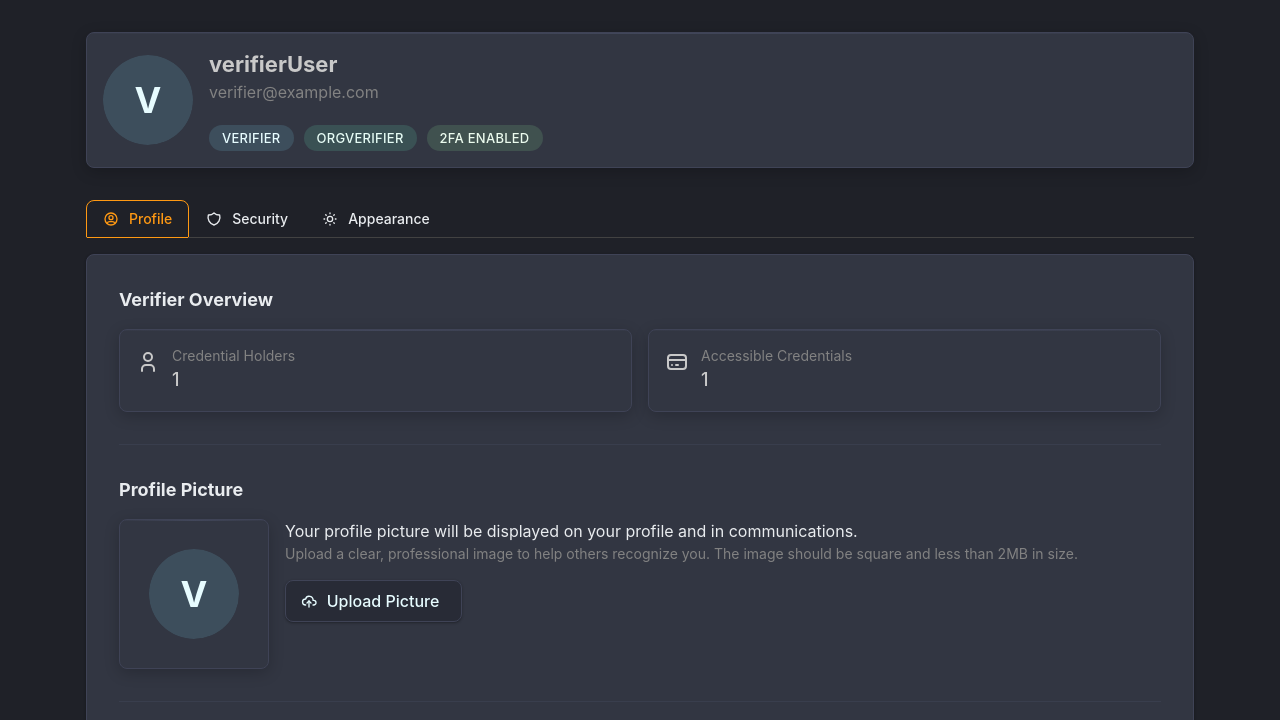
Test: Settings Page › shows enabled 2FA interface for users with 2FA enabled
The width and height of the screenshot is (1280, 720).
Click the tab "Security" at [247, 219], box [189,200,305,238]
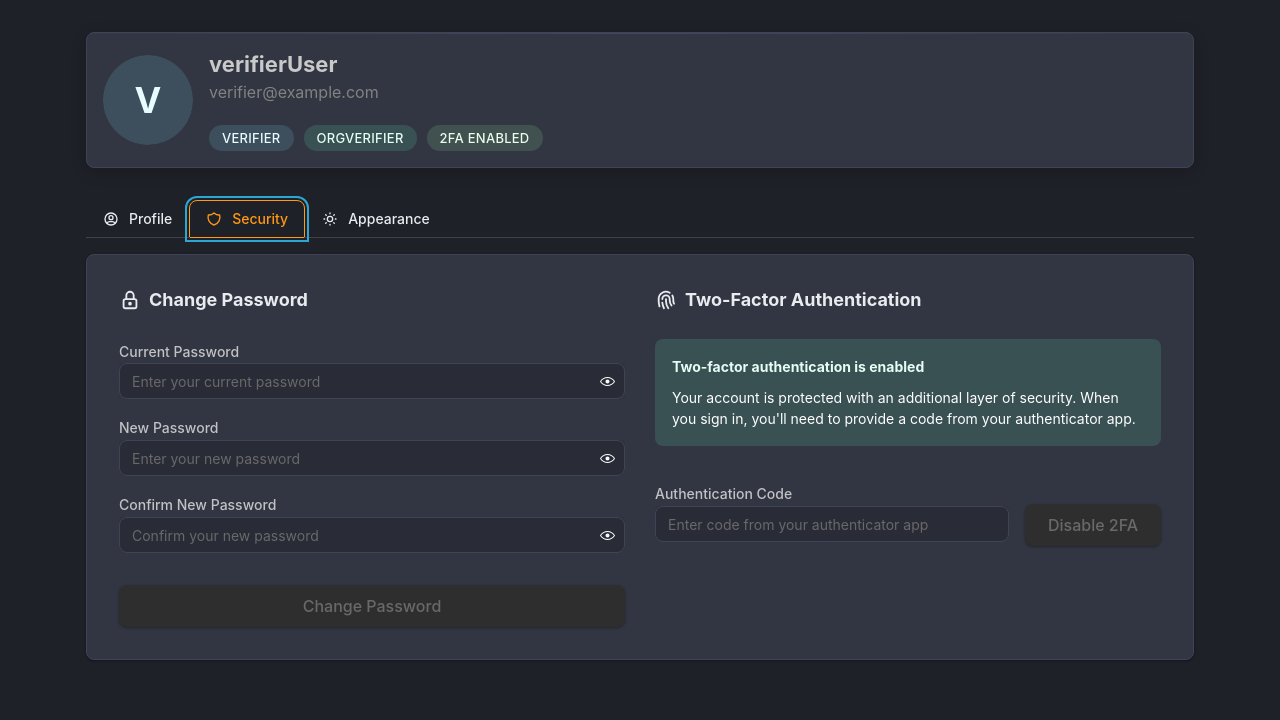
expect the text "Two-factor authentication is enabled" is shown: met, box [672,356,924,377]
expect the button "Disable 2FA" is shown: met, box [1025,504,1161,546]
